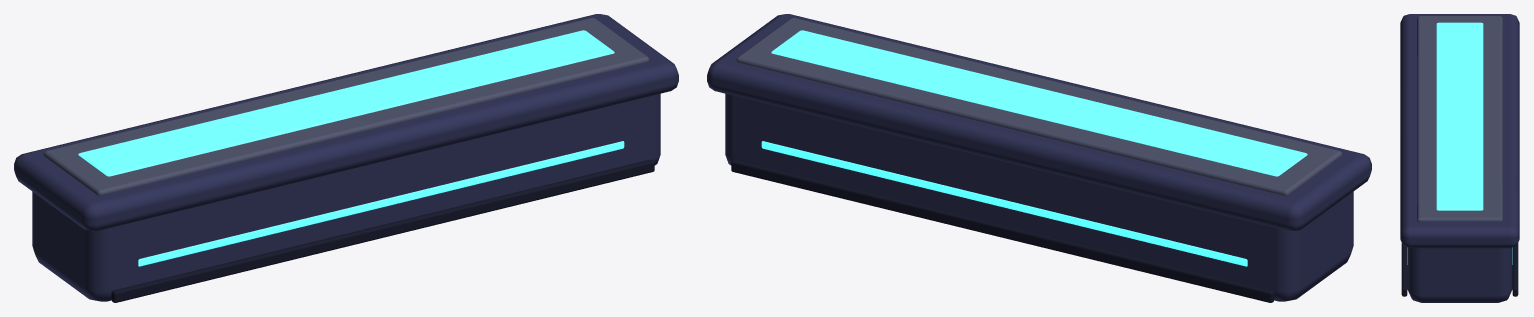
File: int.doorbeam.emit_a.l1.25.glb
3 renders of one model, left to right at view 1: azimuth 30°, elevation 25°; view 2: azimuth 150°, elevation 25°; view 3: azimuth 270°, elevation 25°, orthographic. The views are drawn at different scales.
Visible parts, largest first — view 1: int.doorbeam.emit_a.l1.25; view 2: int.doorbeam.emit_a.l1.25; view 3: int.doorbeam.emit_a.l1.25.
Part boxes in pixels (left/top/right/bottom): int.doorbeam.emit_a.l1.25: left=14, top=14, right=678, bottom=302; int.doorbeam.emit_a.l1.25: left=707, top=14, right=1371, bottom=302; int.doorbeam.emit_a.l1.25: left=1400, top=14, right=1519, bottom=302.
Size of the model in its own units: 1.09 by 0.201 by 0.25.
